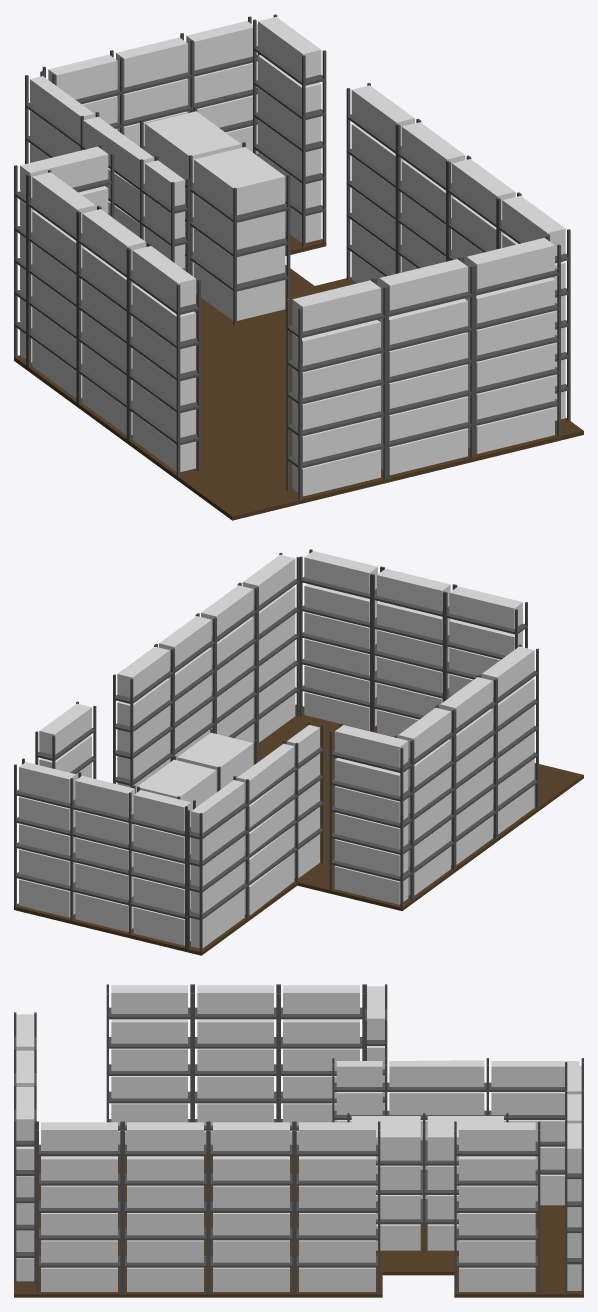
The model's file is warehouse.glb.
3 views of the same model, one above another, from view 1: azimuth 30°, elevation 25°; view 2: azimuth 150°, elevation 25°; view 3: azimuth 270°, elevation 25° (orthographic). The views are drawn at different scales.
Parts seen in each view (by area): view 1: FLOOR, almacen.033, almacen.040, almacen.054, R1, almacen.076, almacen.020, S1, E1, G1, F1, R4 (+67 smaller); view 2: almacen.033, almacen.054, almacen.040, FLOOR, R1, S1, A1, E1, F1, G1, N1, A6 (+84 smaller); view 3: almacen.033, FLOOR, almacen.040, almacen.054, almacen.076, P1, B1, H1, C1, J1, I1, L1 (+68 smaller).
Part boxes in pixels (<box>): FLOOR: <box>14,231,583,520</box>; almacen.033: <box>286,83,570,500</box>; almacen.040: <box>14,144,200,477</box>; almacen.054: <box>25,16,259,273</box>; R1: <box>194,147,285,215</box>; almacen.076: <box>253,14,326,247</box>; almacen.020: <box>140,106,290,325</box>; S1: <box>145,111,240,182</box>; E1: <box>292,280,380,331</box>; G1: <box>466,238,554,289</box>; F1: <box>379,259,467,310</box>; R4: <box>194,263,285,320</box>; almacen.033: <box>113,549,527,787</box>; almacen.054: <box>14,721,324,952</box>; almacen.040: <box>329,644,538,908</box>; FLOOR: <box>14,704,583,955</box>; R1: <box>177,732,253,789</box>; S1: <box>137,759,216,810</box>; A1: <box>334,725,408,767</box>; E1: <box>449,586,522,628</box>; F1: <box>377,568,450,611</box>; G1: <box>304,551,377,593</box>; N1: <box>75,775,134,817</box>; A6: <box>334,866,408,904</box>; almacen.033: <box>14,1012,380,1294</box>; FLOOR: <box>14,1156,583,1297</box>; almacen.040: <box>106,984,387,1130</box>; almacen.054: <box>332,1058,583,1294</box>; almacen.076: <box>454,1121,540,1294</box>; P1: <box>389,1060,484,1086</box>; B1: <box>283,985,359,1013</box>; H1: <box>41,1122,117,1150</box>; C1: <box>197,985,273,1013</box>; J1: <box>213,1122,289,1150</box>; I1: <box>127,1122,203,1150</box>; L1: <box>459,1122,535,1150</box>.
Bounding box in the file's own units: 11.5 × 6.1 × 18.9.
